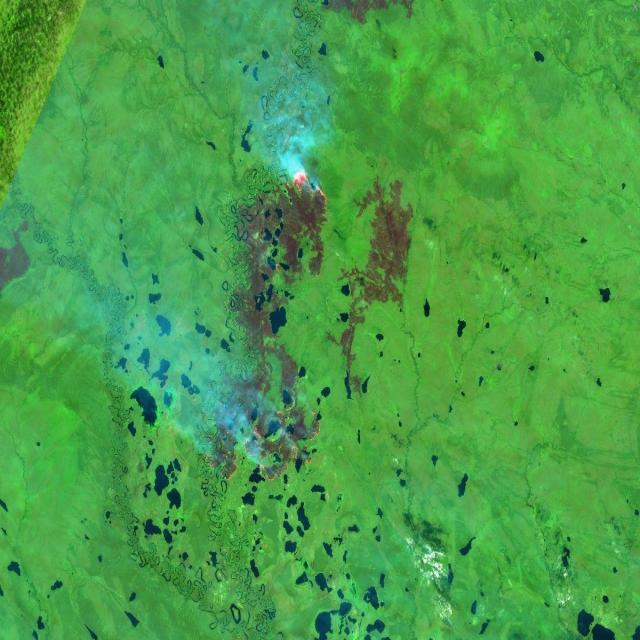fire: (200, 403, 329, 489), (277, 169, 334, 209)
